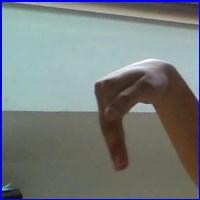A: (91, 51, 189, 178)
